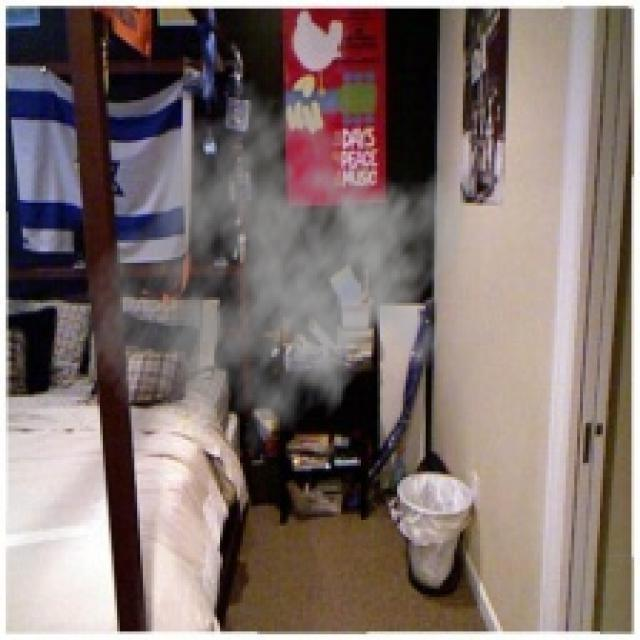Smoke: (80, 74, 472, 474)
